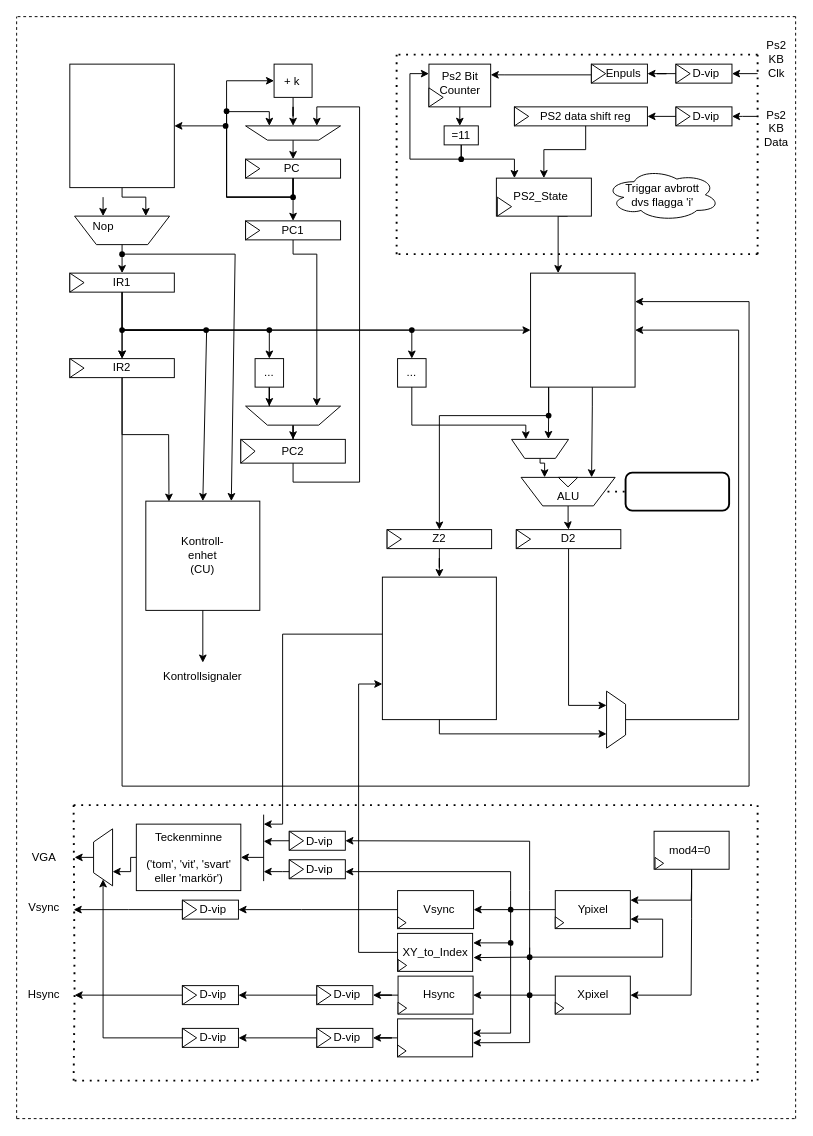
Image size: 813x1136. Some labels were removed from this diagram. Each missing label, with the centre of its shape:
Adder: (293,415)
Blank: (435,1037)
Dataminne (Även Videominne): (438,648)
Flag/status-register i , o , c , f ... osv: (677,491)
Programminne: (121,125)
Registerminne: (582,329)
Svart: (103,857)
